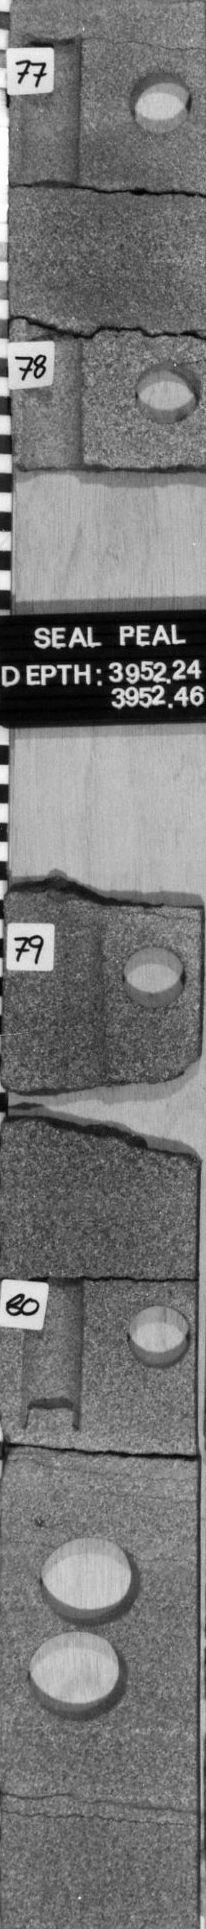hplug: (122, 59, 200, 143), (116, 1297, 196, 1375), (116, 939, 196, 1015), (128, 353, 204, 429)
scal: (22, 1629, 138, 1727), (32, 1531, 146, 1629)
vplug: (14, 1269, 90, 1439), (12, 27, 88, 193), (16, 311, 92, 477), (46, 901, 110, 1093)
